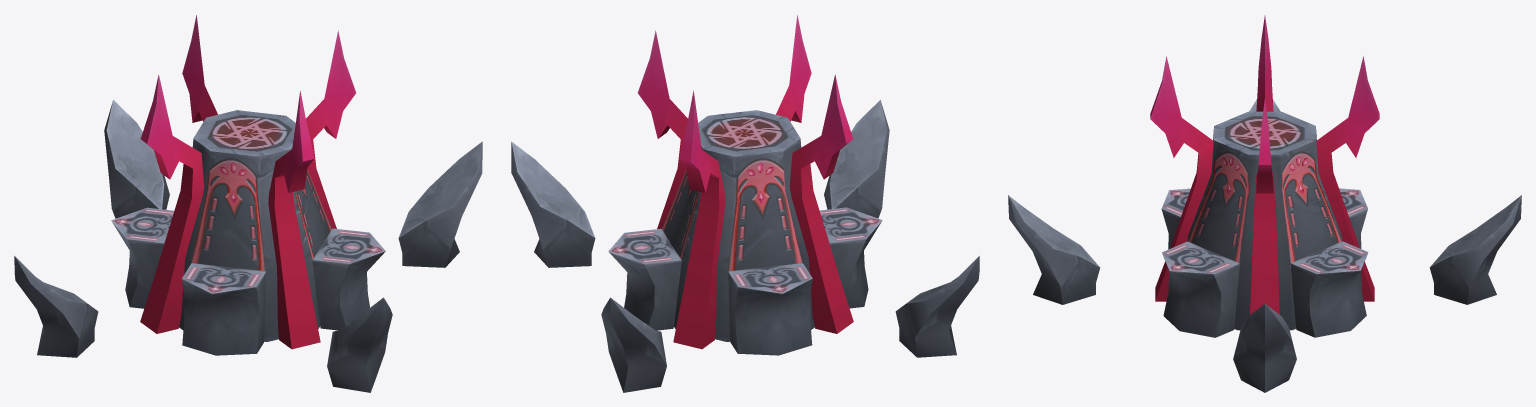
Rendered from The main city_010_LV03.FBX.
3 renders of one model, left to right at view 1: azimuth 30°, elevation 25°; view 2: azimuth 150°, elevation 25°; view 3: azimuth 270°, elevation 25°, orthographic. The views are drawn at different scales.
Parts seen in each view (by area): view 1: The main city_010_LV03; view 2: The main city_010_LV03; view 3: The main city_010_LV03.
Boxes of the visible parts, bbox=[...] form: The main city_010_LV03: bbox=[14, 15, 482, 392]; The main city_010_LV03: bbox=[511, 15, 979, 392]; The main city_010_LV03: bbox=[1008, 15, 1521, 392].
Size of the model in its own units: 46.8 by 24.04 by 46.8.
Materials: 1 (1 with a texture image).
